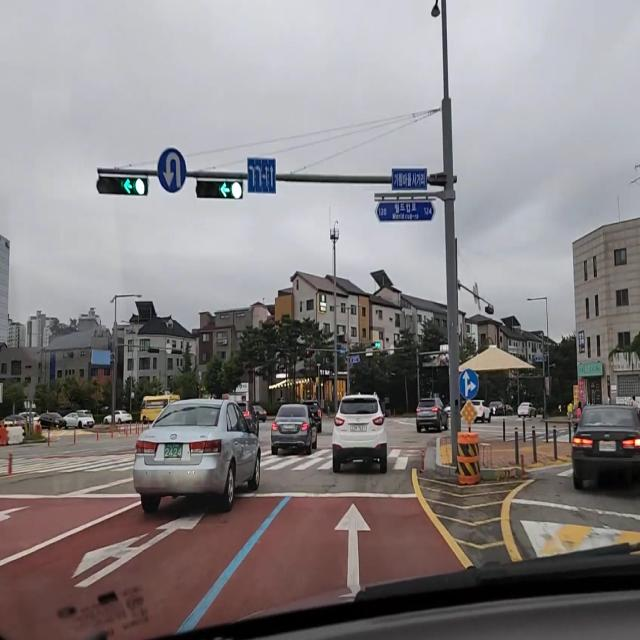Green Light: (134, 177, 146, 196), (230, 180, 242, 199)
